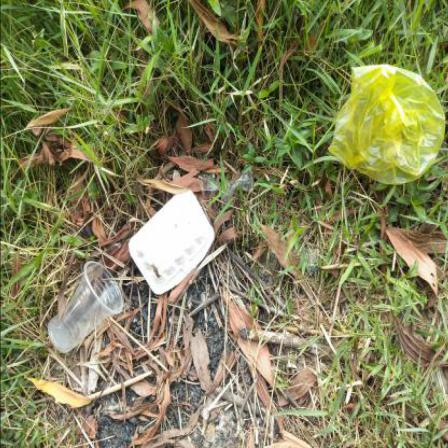Carton: (130, 191, 216, 297)
Cup: (49, 262, 125, 354)
Plastic bag - wrapper: (329, 66, 447, 186), (219, 173, 255, 203), (198, 170, 219, 200)
